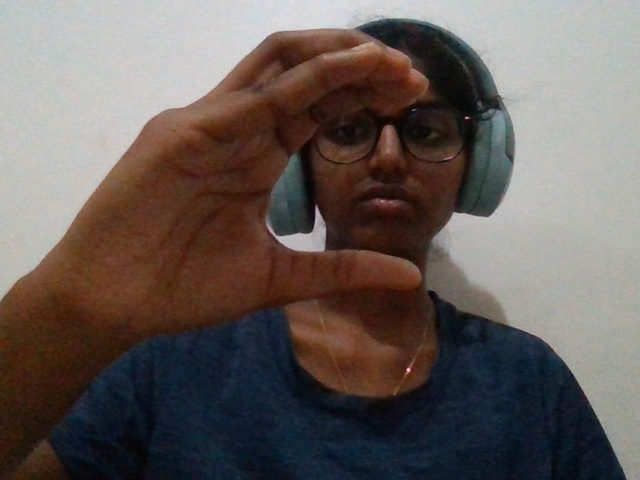C: (9, 14, 448, 375)
